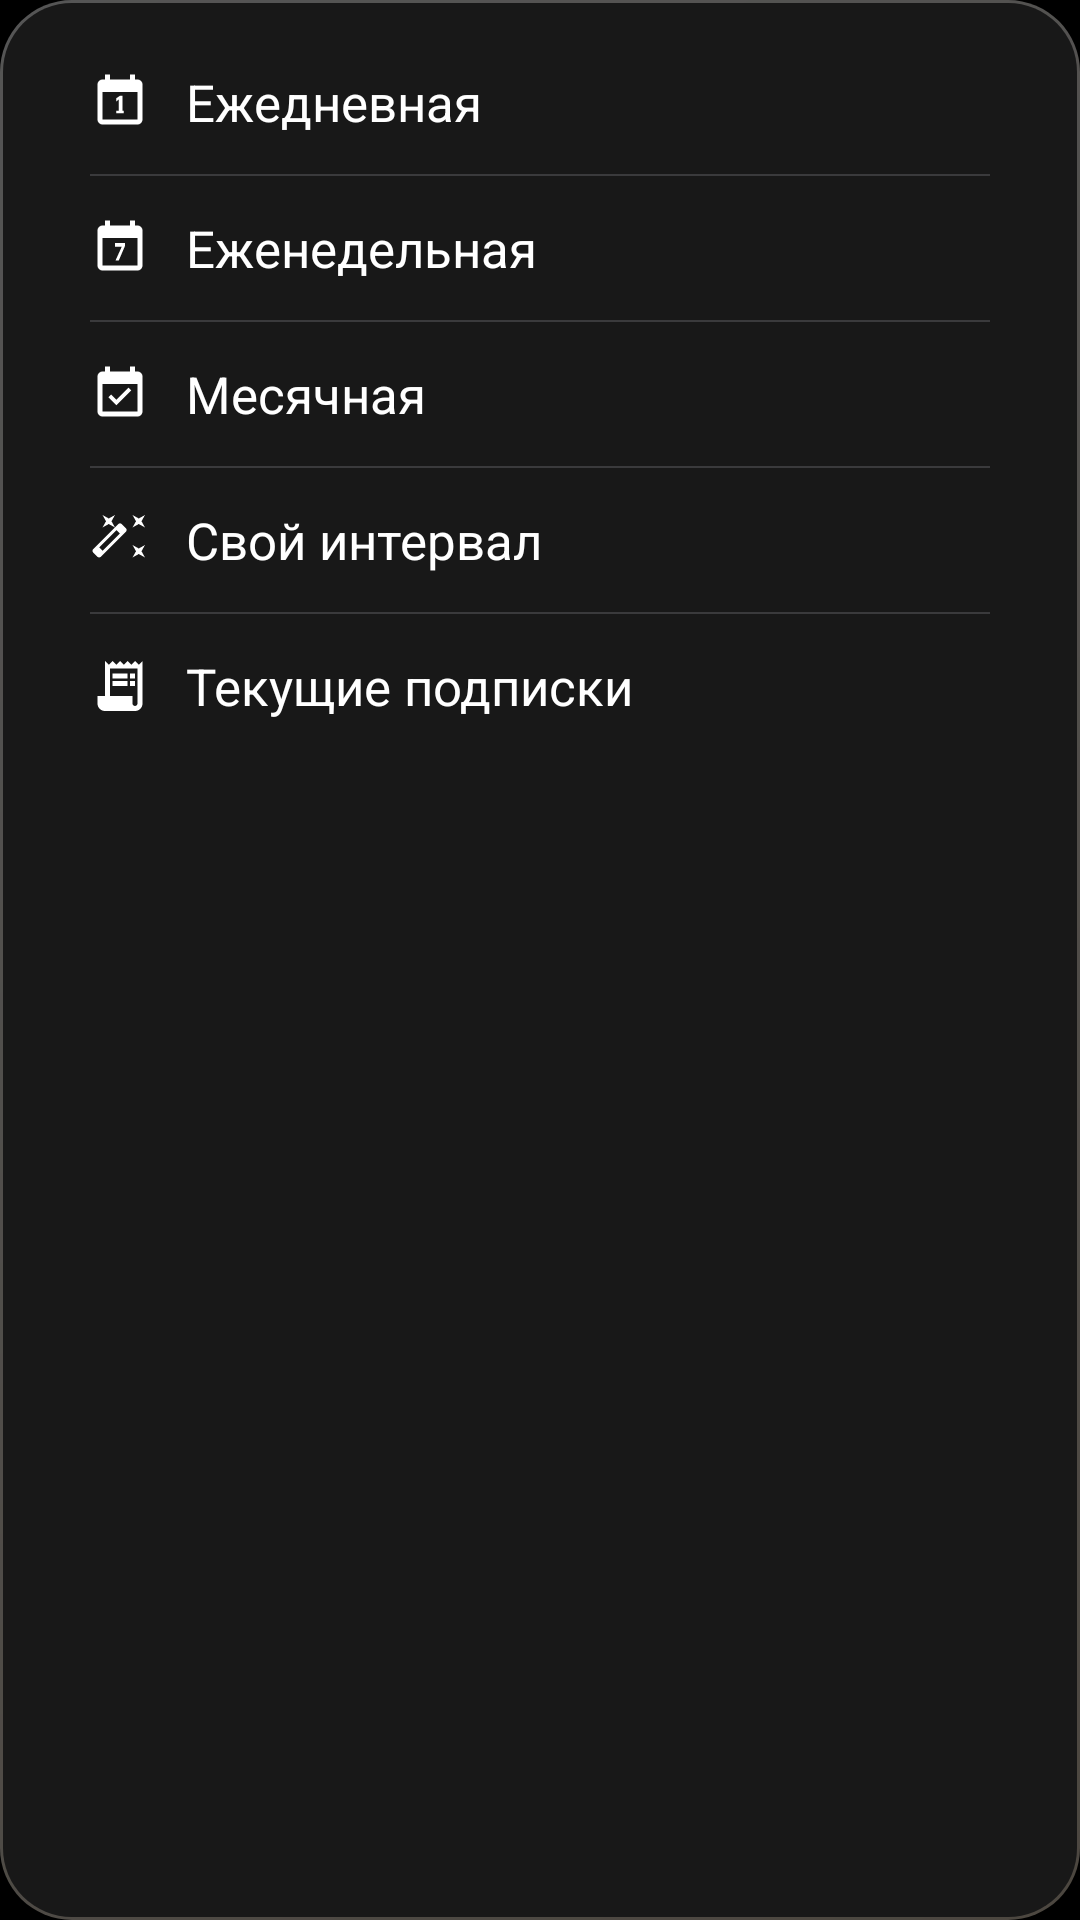

Named icons in this screenshot (1080w x 1920h) and their centers, (x,y):
custom: (118,536)
daily cal: (120,99)
monthly: (120,391)
sublist: (120,686)
weekly cal: (120,245)
